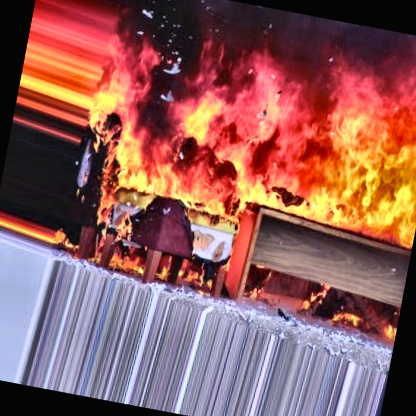fire: (23, 0, 416, 307)
